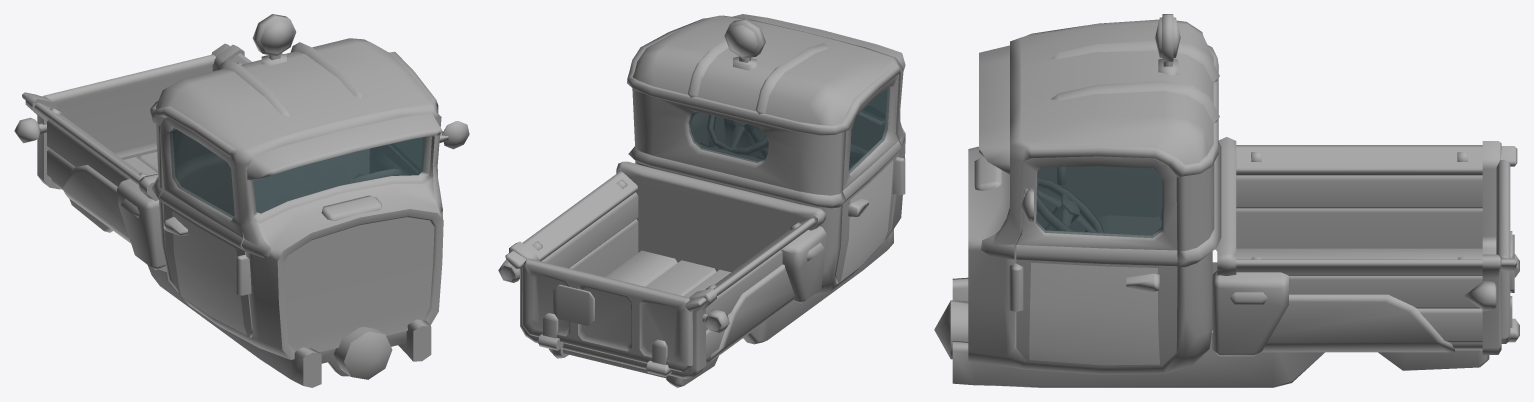
The model's file is Body_Pickupster_Tow.fbx.
3 views of the same model, side by side, from view 1: azimuth 30°, elevation 25°; view 2: azimuth 150°, elevation 25°; view 3: azimuth 270°, elevation 25° (orthographic). The views are drawn at different scales.
Parts seen in each view (by area): view 1: Pickupster_Body_Mesh, Pickupster_Body_BackHatch_Mesh, Pickupster_Body_Window_Mesh, Pickupster_Body_Door_Right_Mesh, Pickupster_Body_Door_Right_Decal_Mesh, Pickupster_Body_Door_Right_Window_Mesh, Body_Attachment_Top_Blinker_Red_Mesh, Pickupster_Body_Door_Left_Mesh, Pickupster_Body_Door_Left_Window_Mesh; view 2: Pickupster_Body_Mesh, Pickupster_Body_BackHatch_Mesh, Pickupster_Body_Door_Right_Mesh, Pickupster_Body_Window_Mesh, Pickupster_Body_Door_Right_Decal_Mesh, Pickupster_Body_Door_Right_Window_Mesh, Body_Attachment_Top_Blinker_Red_Mesh, Body_SteerWheel_Mesh, Pickupster_Body_Door_Left_Mesh; view 3: Pickupster_Body_Mesh, Pickupster_Body_Door_Left_Mesh, Pickupster_Body_Door_Left_Decal_Mesh, Pickupster_Body_Door_Left_Window_Mesh, Pickupster_Body_Door_Right_Mesh, Pickupster_Body_BackHatch_Mesh, Body_SteerWheel_Mesh, Body_Attachment_Top_Blinker_Red_Mesh.
Boxes of the visible parts, x1,y1,x2,y2 form: Pickupster_Body_Mesh: (14, 38, 443, 387); Pickupster_Body_BackHatch_Mesh: (43, 54, 215, 152); Pickupster_Body_Window_Mesh: (253, 136, 425, 213); Pickupster_Body_Door_Right_Mesh: (160, 117, 252, 337); Pickupster_Body_Door_Right_Decal_Mesh: (172, 211, 246, 335); Pickupster_Body_Door_Right_Window_Mesh: (170, 128, 234, 218); Body_Attachment_Top_Blinker_Red_Mesh: (252, 14, 296, 65); Pickupster_Body_Door_Left_Mesh: (369, 121, 469, 175); Pickupster_Body_Door_Left_Window_Mesh: (391, 138, 421, 170); Pickupster_Body_Mesh: (498, 14, 905, 387); Pickupster_Body_BackHatch_Mesh: (522, 258, 692, 372); Pickupster_Body_Door_Right_Mesh: (834, 74, 901, 283); Pickupster_Body_Window_Mesh: (688, 91, 885, 162); Pickupster_Body_Door_Right_Decal_Mesh: (840, 160, 893, 281); Pickupster_Body_Door_Right_Window_Mesh: (848, 87, 889, 173); Body_Attachment_Top_Blinker_Red_Mesh: (724, 19, 765, 70); Body_SteerWheel_Mesh: (707, 115, 768, 158); Pickupster_Body_Door_Left_Mesh: (692, 112, 726, 148); Pickupster_Body_Mesh: (934, 19, 1519, 387); Pickupster_Body_Door_Left_Mesh: (1016, 156, 1177, 366); Pickupster_Body_Door_Left_Decal_Mesh: (1029, 262, 1159, 365); Pickupster_Body_Door_Left_Window_Mesh: (1036, 166, 1163, 238); Pickupster_Body_Door_Right_Mesh: (1037, 166, 1161, 231); Pickupster_Body_BackHatch_Mesh: (1496, 160, 1514, 343); Body_SteerWheel_Mesh: (1037, 177, 1103, 232); Body_Attachment_Top_Blinker_Red_Mesh: (1155, 14, 1180, 75).
Bounding box in the file's own units: 179 × 201 × 307.
